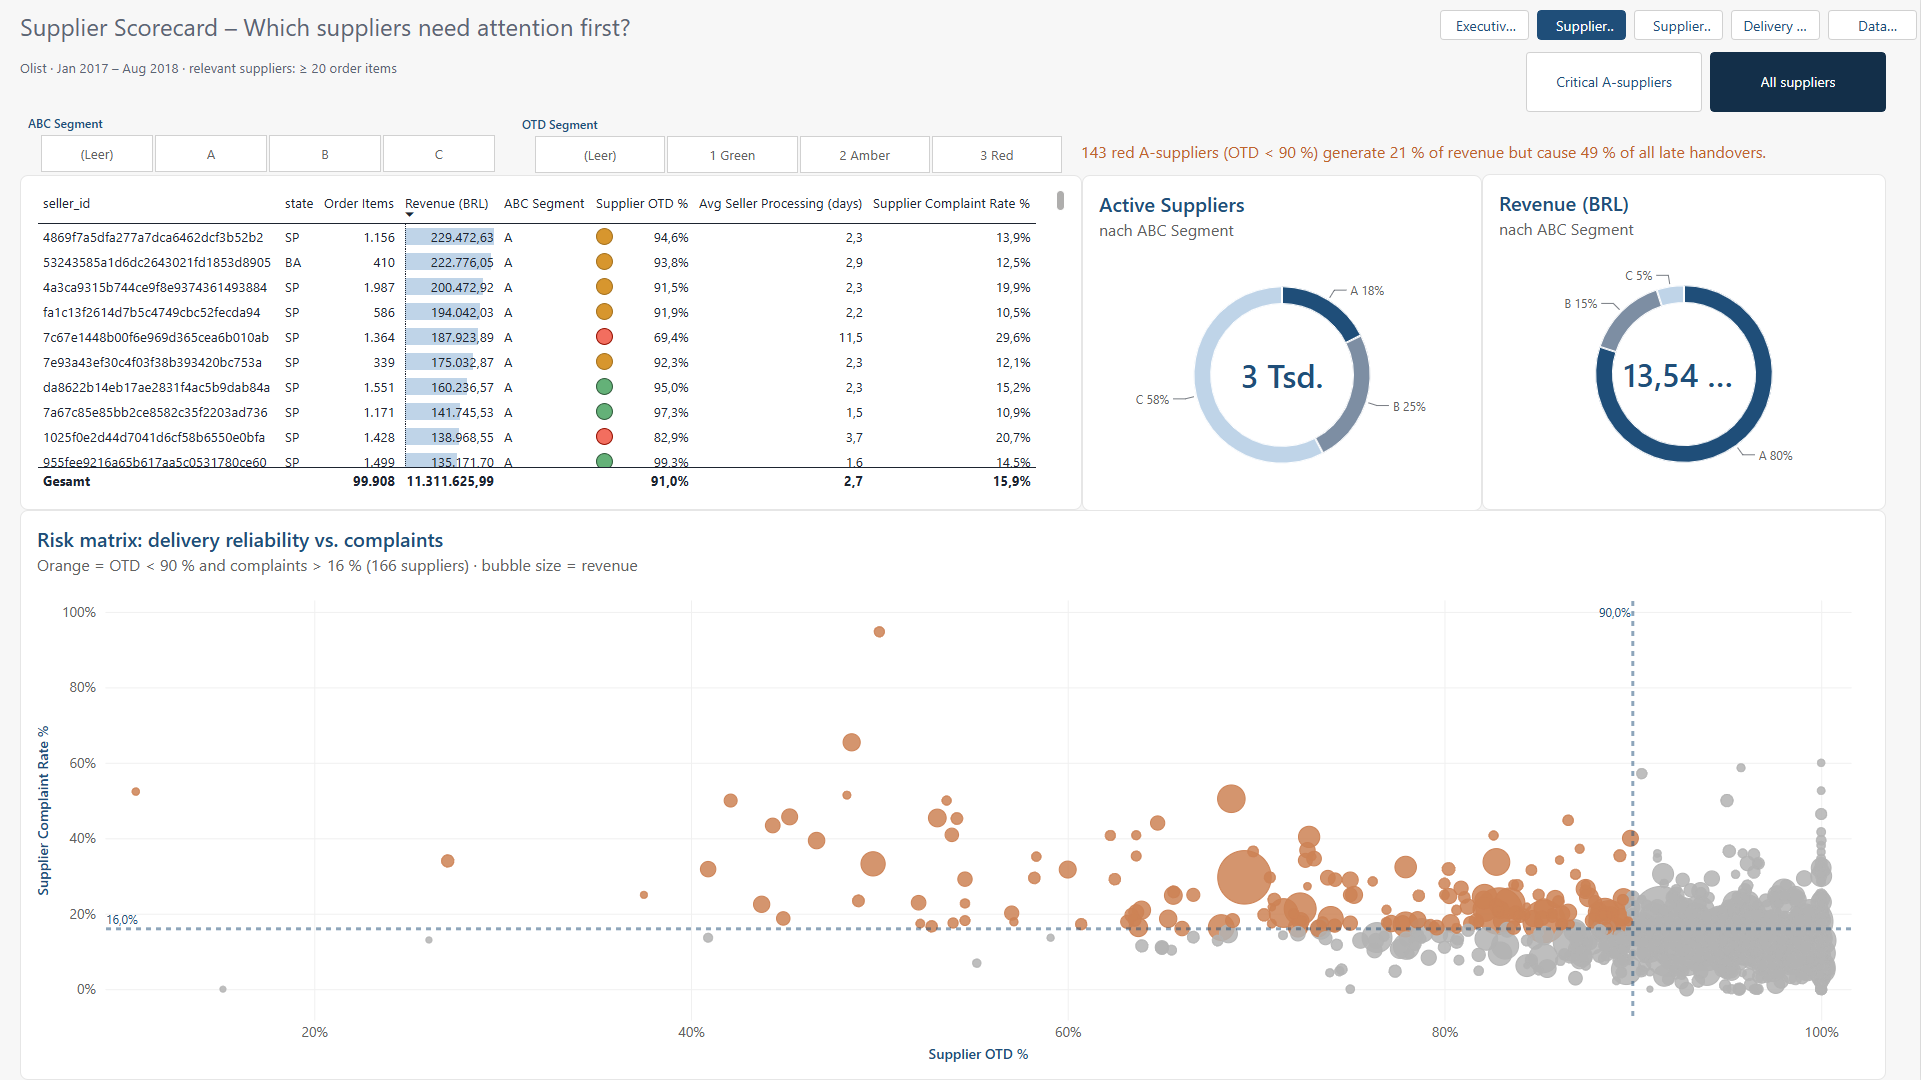

The page's visual inventory and layout, read from the dashboard file:
{"tool":"powerbi","page":{"name":"Supplier Scorecard","canvas":[1920,1080],"ordinal":1},"visuals":[{"type":"textbox","box":[20.2,10.1,1899.8,83.2],"z":0},{"type":"slicer","fields":{"Values":["dim_seller.ABC Segment"]},"box":[20.2,114.7,493.8,59.6],"z":1000},{"type":"slicer","fields":{"Values":["dim_seller.OTD Segment"]},"box":[514,115.9,566.9,59.6],"z":2000},{"type":"tableEx","fields":{"Values":["dim_seller.seller_id","dim_seller.state","_Measures.Order Items","_Measures.Revenue (BRL)","dim_seller.ABC Segment","_Measures.Supplier OTD %","_Measures.Avg Seller Processing (days)","_Measures.Supplier Complaint Rate %"]},"box":[20.2,175.2,1061.8,335.2],"z":3000},{"type":"donutChart","fields":{"Category":["dim_seller.ABC Segment"],"Y":["_Measures.Active Suppliers"]},"box":[1082,175.5,400.4,335.2],"z":4000},{"type":"donutChart","fields":{"Category":["dim_seller.ABC Segment"],"Y":["_Measures.Revenue (BRL)"]},"box":[1482.5,174.3,403.8,335.2],"z":5000},{"type":"scatterChart","title":"Risk matrix: delivery reliability vs. complaints","fields":{"Category":["dim_seller.seller_id"],"Size":["_Measures.Revenue (BRL)"],"X":["_Measures.Supplier OTD %"],"Y":["_Measures.Supplier Complaint Rate %"]},"box":[20.2,509.5,1866,570.3],"z":6000},{"type":"textbox","box":[1080.9,123.7,737.9,60.7],"z":7000},{"type":"pageNavigator","box":[1439.7,10.1,480,30],"z":7001},{"type":"bookmarkNavigator","box":[1526.2,51.6,360,60],"z":7002}]}

Visuals, with their boxes in screenshot pixels (x1, y1, x2, y2), scaled from the page's 1920x1080 canvas onto the 1921x1080 screenshot:
textbox: bbox=(20, 10, 1920, 93)
slicer - dim_seller.ABC Segment: bbox=(20, 115, 514, 174)
slicer - dim_seller.OTD Segment: bbox=(514, 116, 1081, 176)
tableEx - dim_seller.seller_id x dim_seller.state: bbox=(20, 175, 1083, 510)
donutChart - dim_seller.ABC Segment x _Measures.Active Suppliers: bbox=(1083, 176, 1483, 511)
donutChart - dim_seller.ABC Segment x _Measures.Revenue (BRL): bbox=(1483, 174, 1887, 510)
"Risk matrix: delivery reliability vs. complaints" scatterChart: bbox=(20, 510, 1887, 1079)
textbox: bbox=(1081, 124, 1820, 184)
pageNavigator: bbox=(1440, 10, 1920, 40)
bookmarkNavigator: bbox=(1527, 52, 1887, 112)
